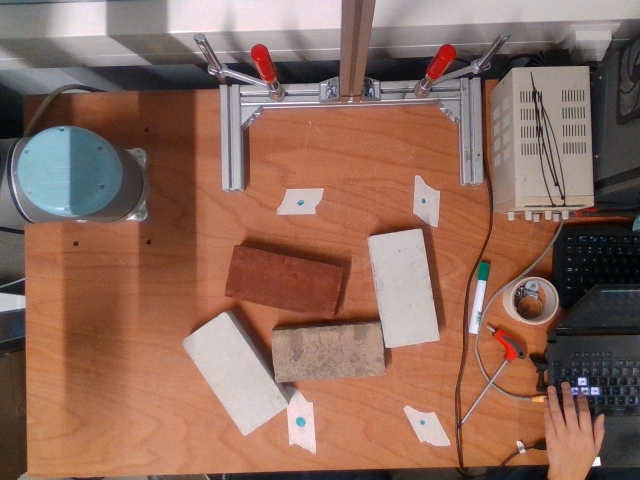brick: (181, 313, 287, 434), (223, 243, 341, 319), (369, 229, 440, 346), (273, 323, 386, 385)
